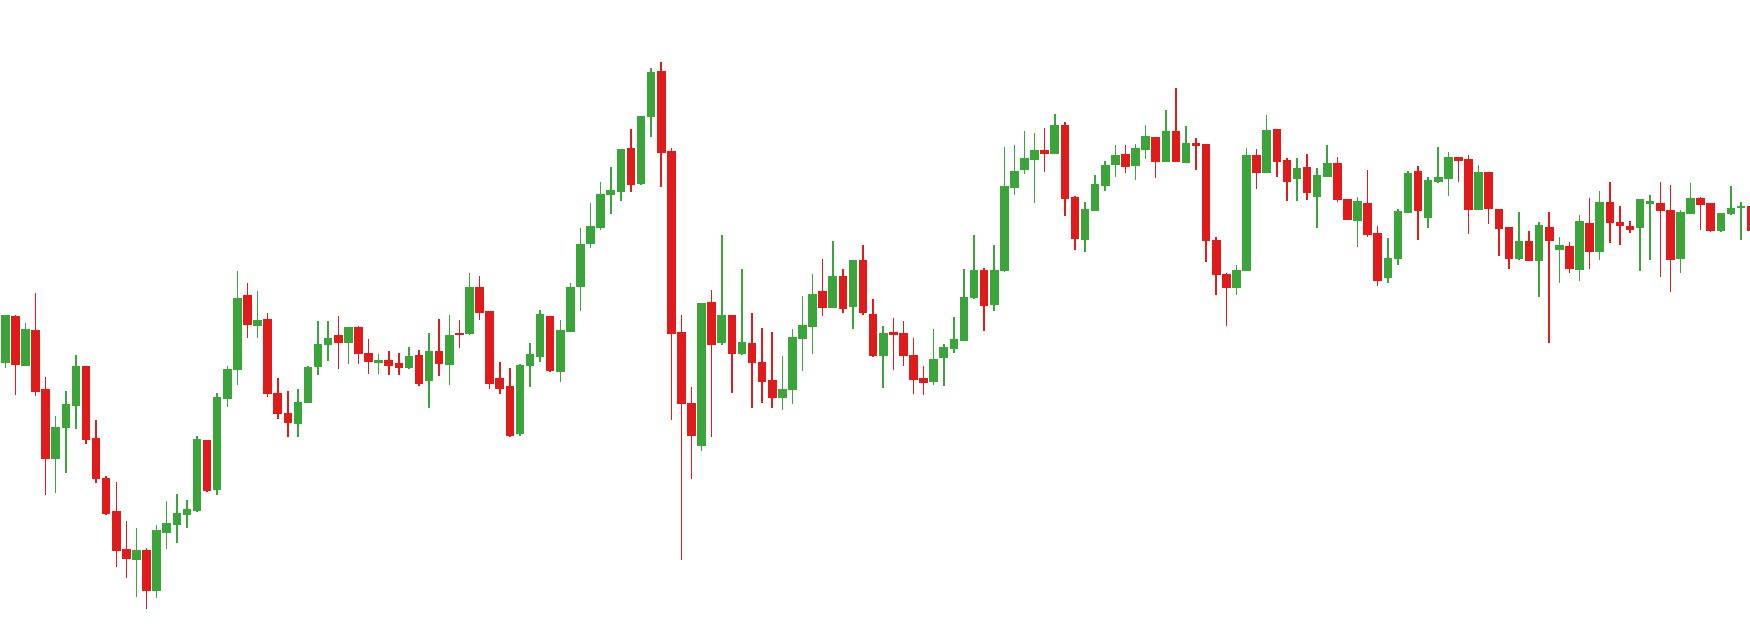buy: (423, 331, 527, 441), (797, 293, 888, 394)
